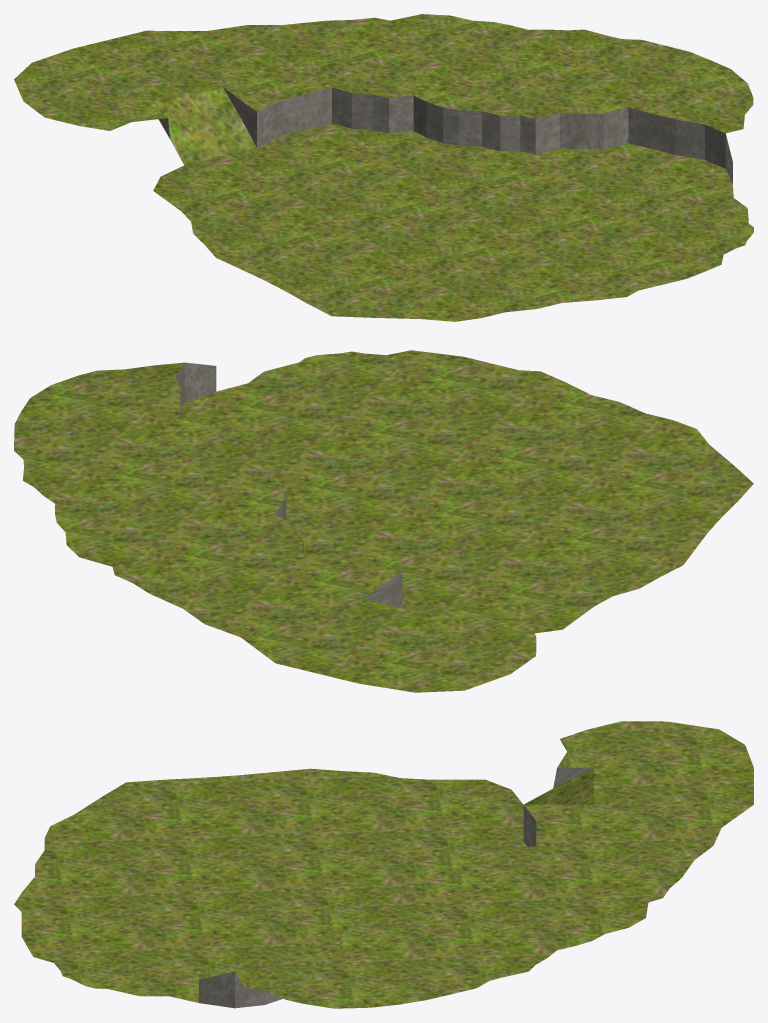
Rendered from BaseGroundOne.fbx.
The picture shows the model from 3 angles, top to bottom: view 1: azimuth 30°, elevation 25°; view 2: azimuth 150°, elevation 25°; view 3: azimuth 270°, elevation 25°; orthographic projection. The views are drawn at different scales.
Visible parts, largest first — view 1: Cube, Cube.001; view 2: Cube, Cube.001; view 3: Cube, Cube.001.
Boxes of the visible parts, left/top/right/bottom form: Cube: left=14, top=14, right=753, bottom=321; Cube.001: left=158, top=87, right=732, bottom=183; Cube: left=14, top=350, right=753, bottom=692; Cube.001: left=176, top=362, right=402, bottom=608; Cube: left=14, top=721, right=753, bottom=1008; Cube.001: left=199, top=768, right=592, bottom=1008.
Bounding box in the file's own units: 10728 × 646 × 11734.
